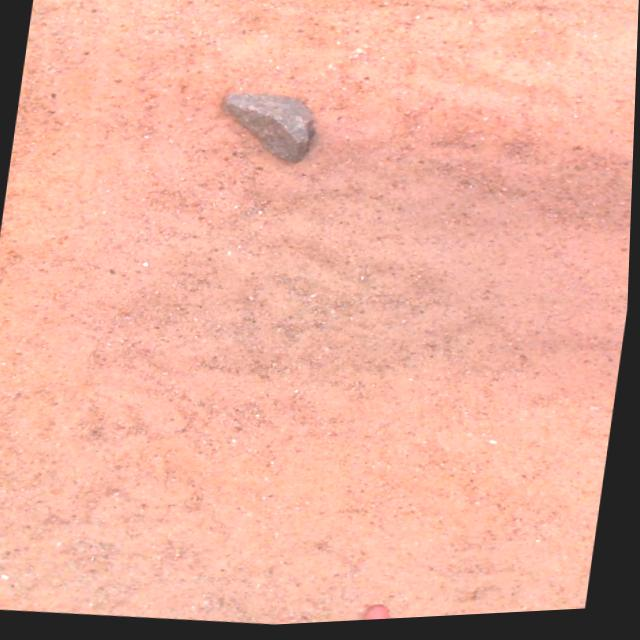rock: (222, 95, 311, 165)
